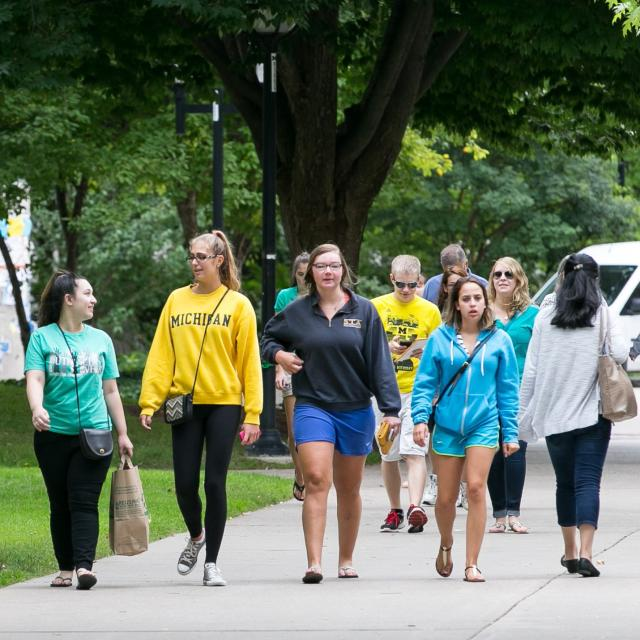body: (260, 241, 403, 590), (137, 228, 264, 589), (516, 252, 638, 585), (22, 269, 135, 590), (408, 276, 521, 586), (362, 253, 442, 535), (482, 256, 542, 534), (274, 250, 315, 503), (538, 254, 608, 312), (422, 244, 489, 304), (436, 266, 470, 320), (414, 271, 428, 298)
